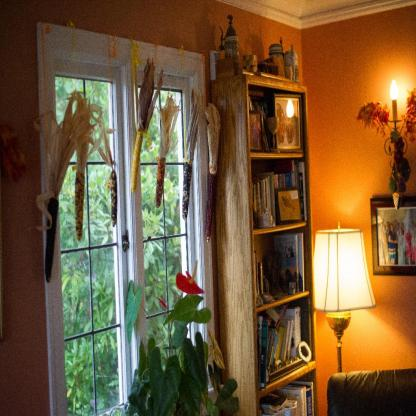book: (255, 304, 308, 390), (249, 160, 309, 221), (260, 371, 319, 416), (272, 231, 306, 294), (252, 248, 266, 310)
